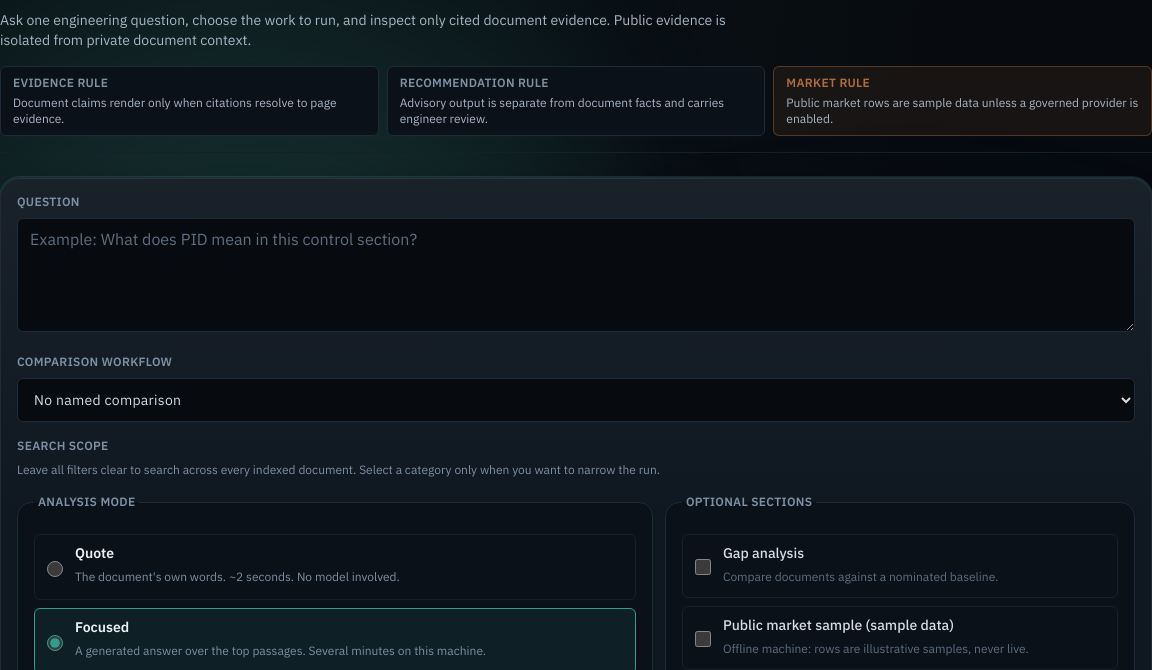
it: AnalysisModeScreen: rules that must hold on screen › RULE 4: a documented finding that cites nothing is not rendered at all
Type "what is the pressure floor" into the text box labelled "Question" at (576, 275), box top-left (17, 218), bottom-right (1135, 332)
(page scrolled)
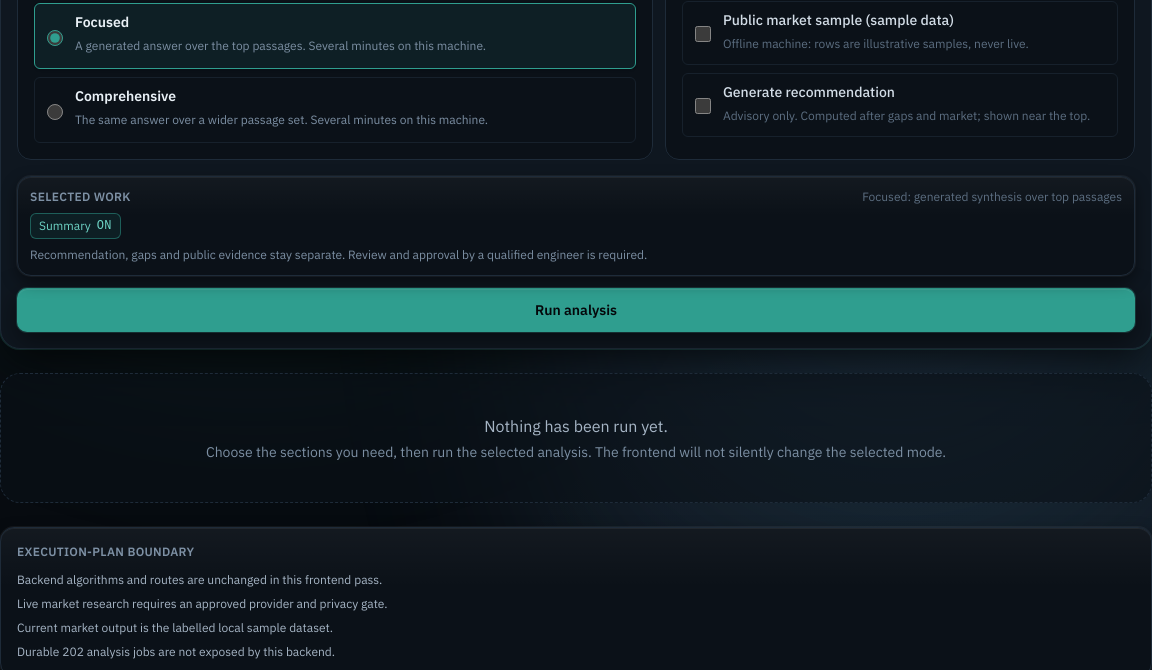
Click the button "Run analysis" at (576, 310), box top-left (17, 288), bottom-right (1135, 332)
(page scrolled)
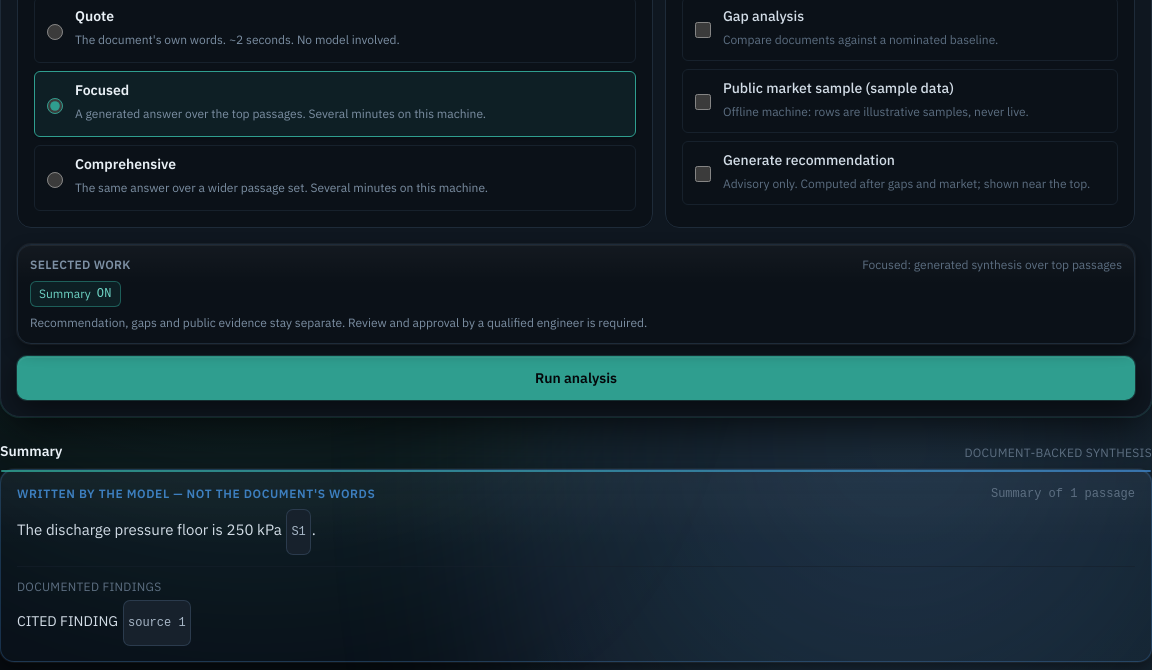
Now the text "CITED FINDING" is shown, box top-left (17, 612), bottom-right (118, 630)
